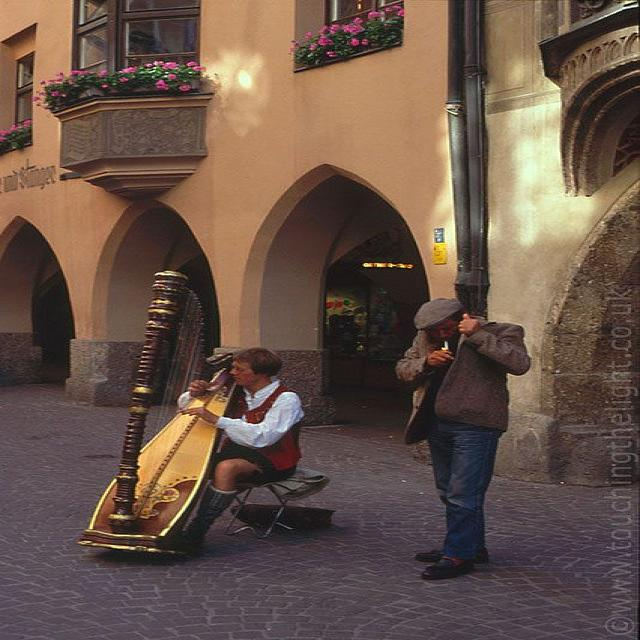harp: (73, 266, 241, 559)
